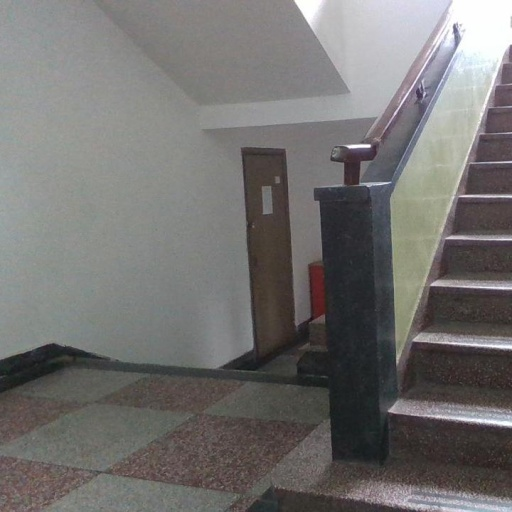Stairs: (390, 47, 512, 512)
